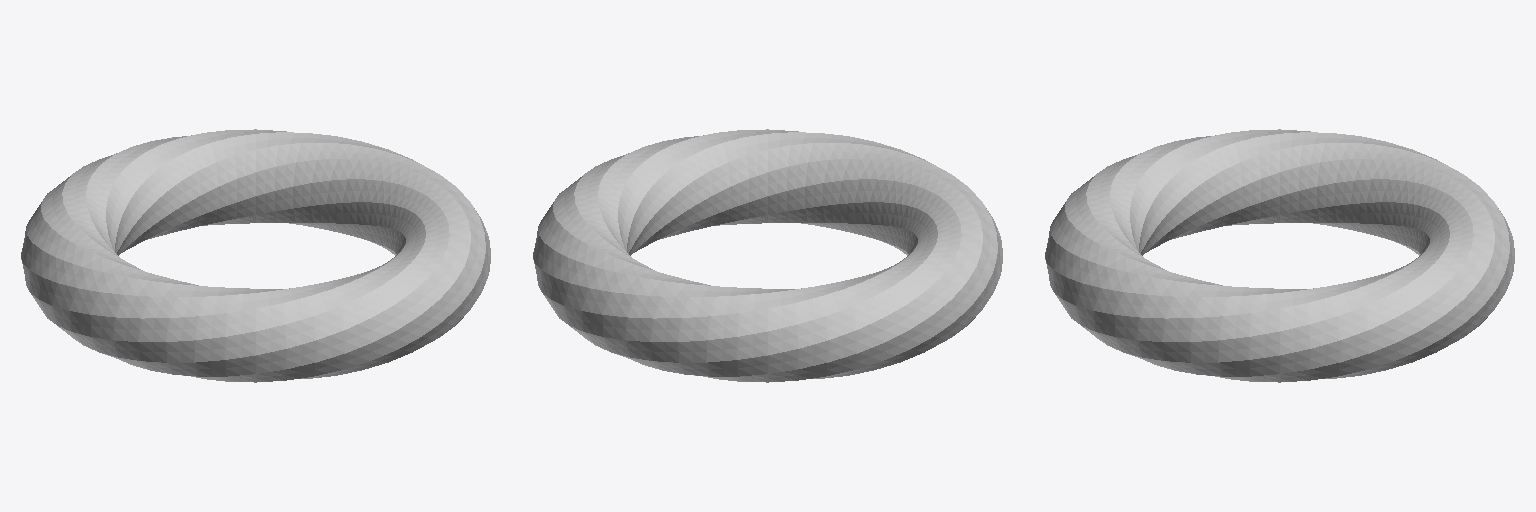
The model's file is twistedtorus_uv.obj.
The picture shows the model from 3 angles: view 1: azimuth 30°, elevation 25°; view 2: azimuth 150°, elevation 25°; view 3: azimuth 270°, elevation 25°; orthographic projection.
Visible parts, largest first — view 1: TwistedTorus; view 2: TwistedTorus; view 3: TwistedTorus.
Part boxes in pixels (x1,y1,x2,y2): TwistedTorus: (21,129,490,382); TwistedTorus: (533,129,1002,382); TwistedTorus: (1045,129,1514,382).
Bounding box in the file's own units: 2.5 × 0.5 × 2.5.